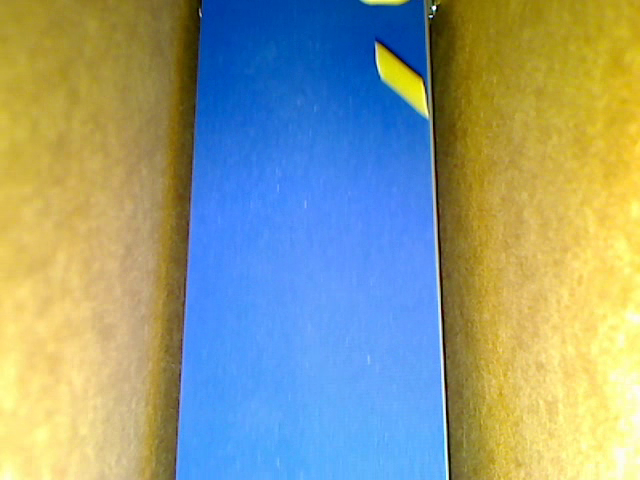penne: (374, 41, 430, 119)
